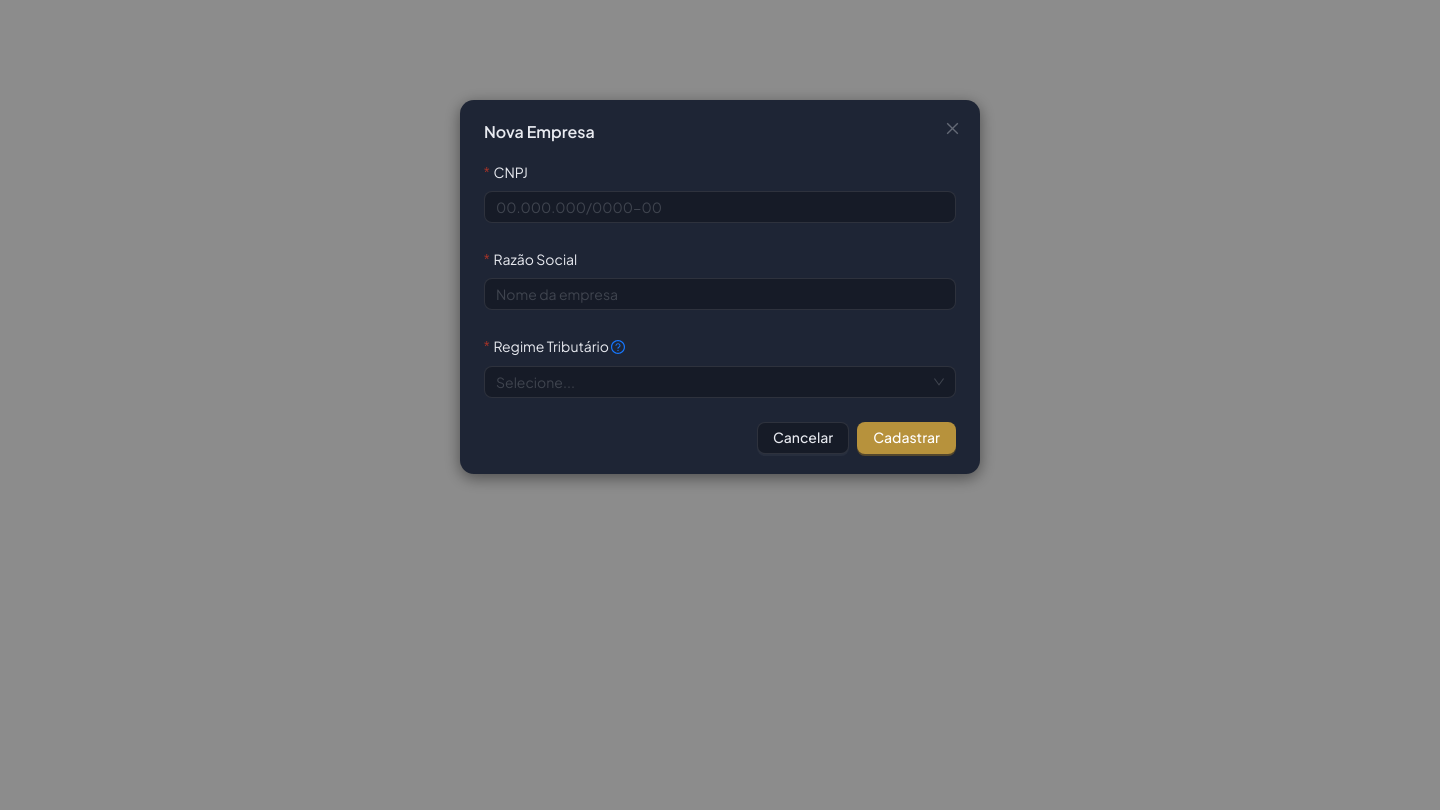
it: EmpresaForm › shows CNPJ mask on typing
Type "11222333000181" into the field with placeholder "00.000.000/0000-00" at point(720, 207), box [484, 191, 956, 223]
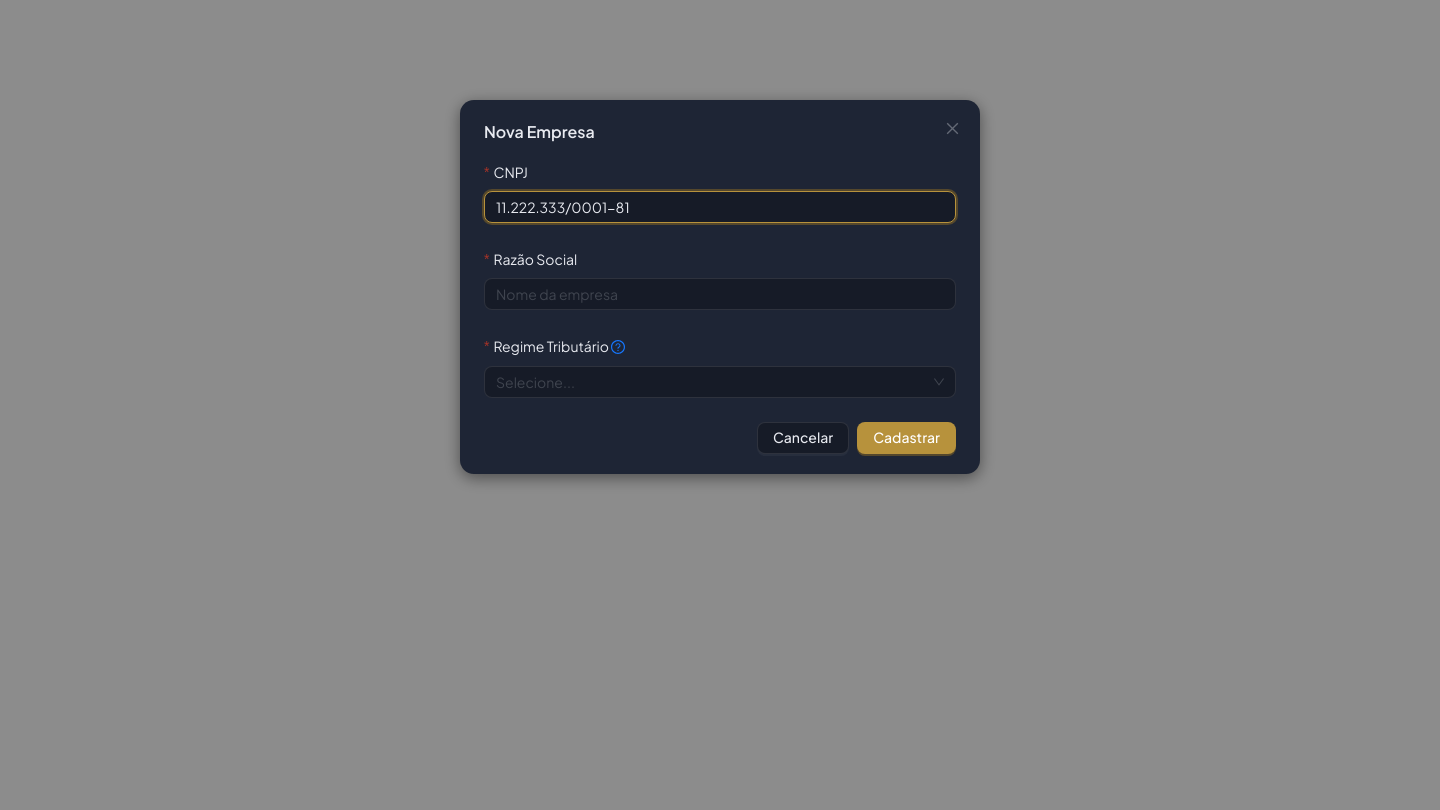
Expected: the field with placeholder "00.000.000/0000-00" holds "11.222.333/0001-81", [484, 191, 956, 223]
